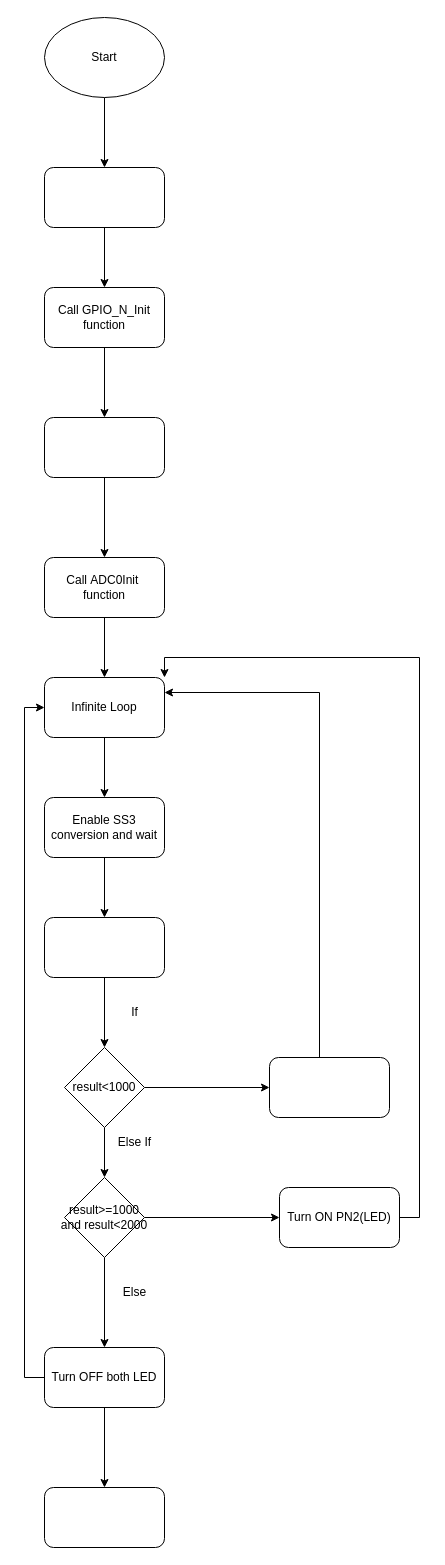
This 445x1565 diagram has some shape labels left out. Here are the shapes that lost their labels. From the top down, the centre of each, then its label:
At (104,197): "Declare result variable".
At (104,447): "Call GPIO_E_Init function".
At (104,947): "Store the output in result".
At (329,1087): "Turn ON PN1(LED)".
At (104,1517): "Stop".
